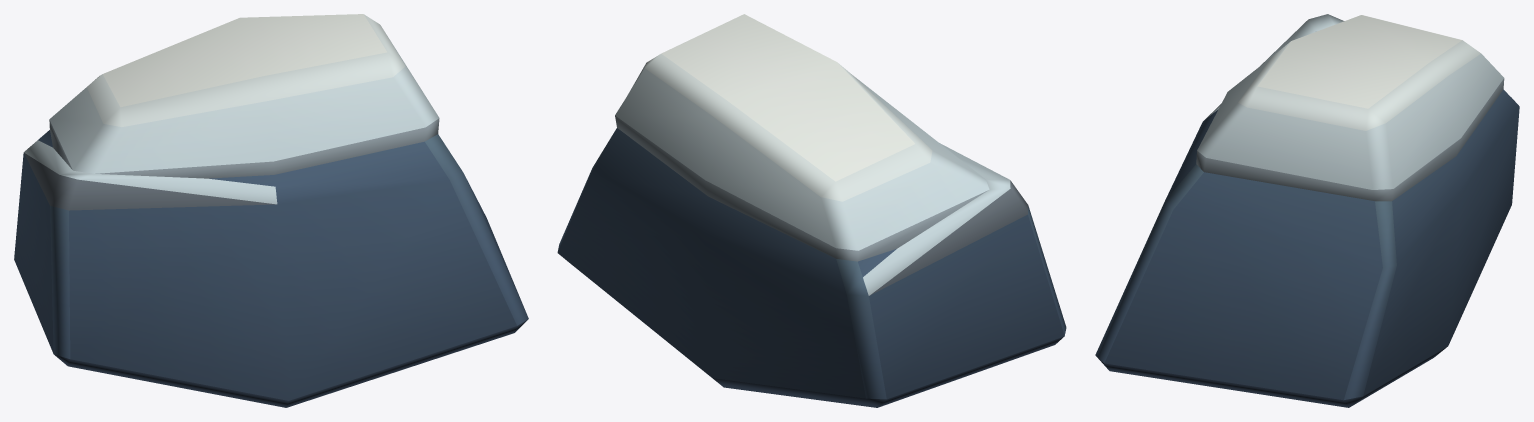
The model's file is rock_snow_025.fbx.
The picture shows the model from 3 angles, left to right: view 1: azimuth 30°, elevation 25°; view 2: azimuth 150°, elevation 25°; view 3: azimuth 270°, elevation 25°; orthographic projection. The views are drawn at different scales.
Parts seen in each view (by area): view 1: rock_snow_025; view 2: rock_snow_025; view 3: rock_snow_025.
Boxes of the visible parts, x1,y1,x2,y2 form: rock_snow_025: (14, 14, 528, 407); rock_snow_025: (557, 14, 1066, 407); rock_snow_025: (1095, 14, 1519, 407).
Bounding box in the file's own units: 347 × 207 × 261.
Materials: 1 (1 with a texture image).
